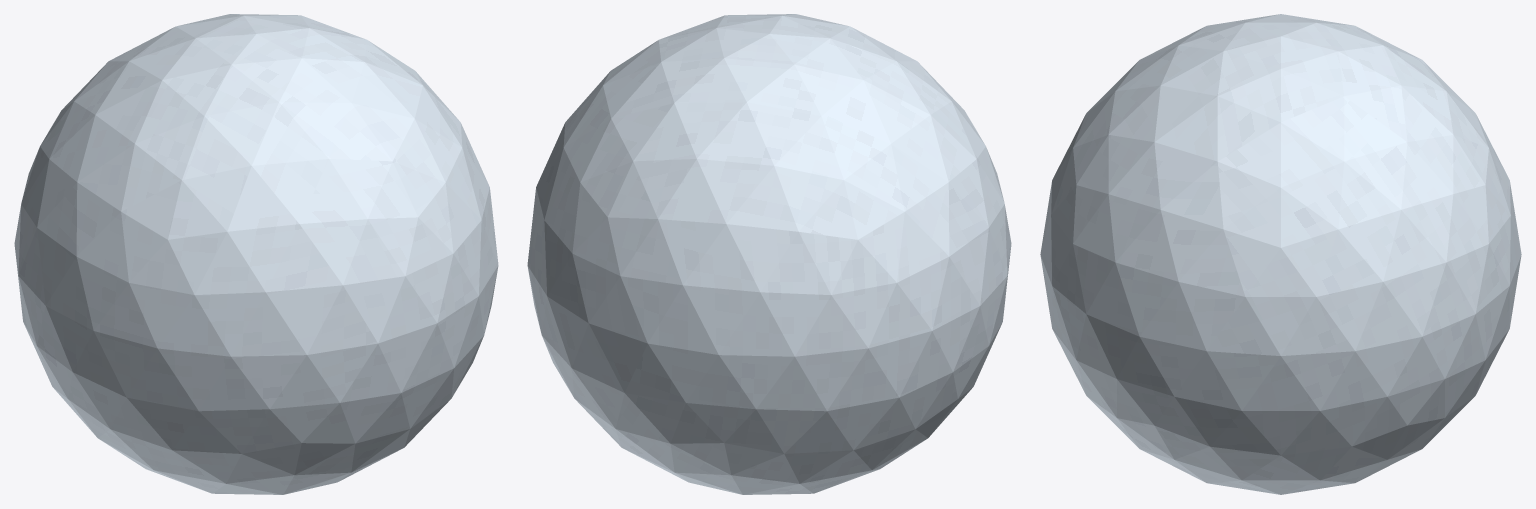
The model's file is cuball_lamp_light.obj.
The picture shows the model from 3 angles, left to right: view 1: azimuth 30°, elevation 25°; view 2: azimuth 150°, elevation 25°; view 3: azimuth 270°, elevation 25°; orthographic projection.
Parts seen in each view (by area): view 1: 1; view 2: 1; view 3: 1.
Part boxes in pixels (x1,y1,x2,y2): 1: (14,14,498,494); 1: (527,14,1011,494); 1: (1040,14,1521,494).
Size of the model in its own units: 15 by 15 by 15.
